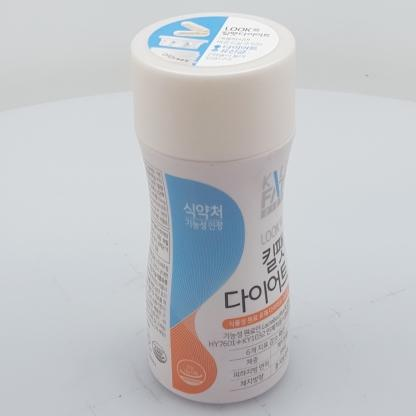------LOOK------170ML: (130, 11, 297, 404)
